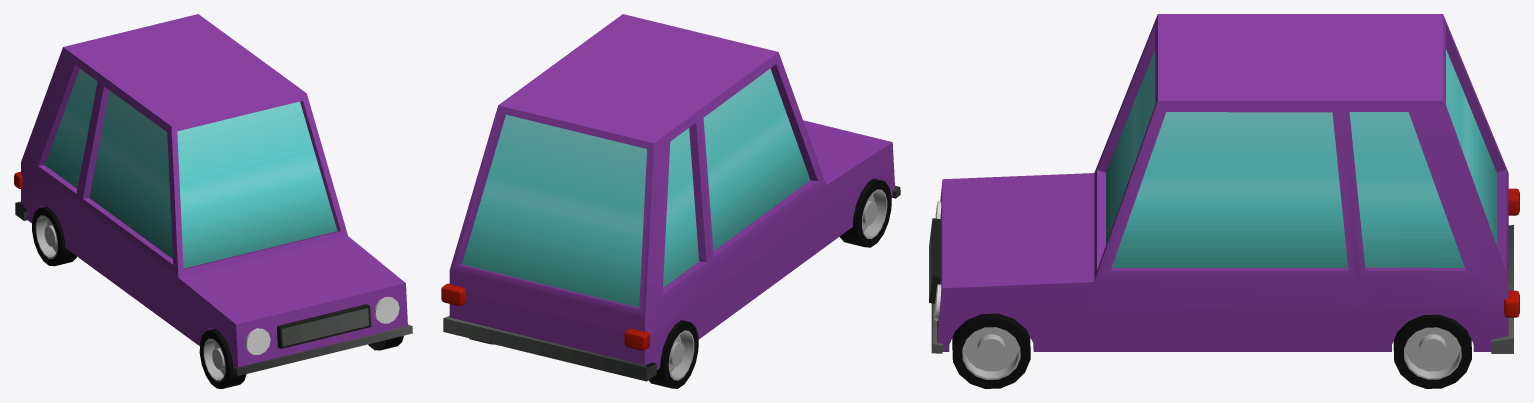
Rendered from SM_Car_Purple.fbx.
3 renders of one model, left to right at view 1: azimuth 30°, elevation 25°; view 2: azimuth 150°, elevation 25°; view 3: azimuth 270°, elevation 25°, orthographic. The views are drawn at different scales.
Parts seen in each view (by area): view 1: Car, Wheels, Grate, Headlights; view 2: Car, Wheels, Break_Lights; view 3: Car, Wheels, Grate, Break_Lights.
Boxes of the visible parts, x1,y1,x2,y2 form: Car: [15, 14, 412, 376]; Wheels: [32, 206, 403, 388]; Grate: [277, 304, 371, 348]; Headlights: [245, 297, 399, 354]; Car: [443, 14, 900, 381]; Wheels: [469, 178, 891, 388]; Break_Lights: [441, 283, 649, 350]; Car: [931, 14, 1513, 353]; Wheels: [952, 313, 1471, 388]; Grate: [929, 218, 940, 303]; Break_Lights: [1504, 188, 1519, 317].
Size of the model in its own units: 253 by 284 by 553.
Materials: 1 (1 with a texture image).
